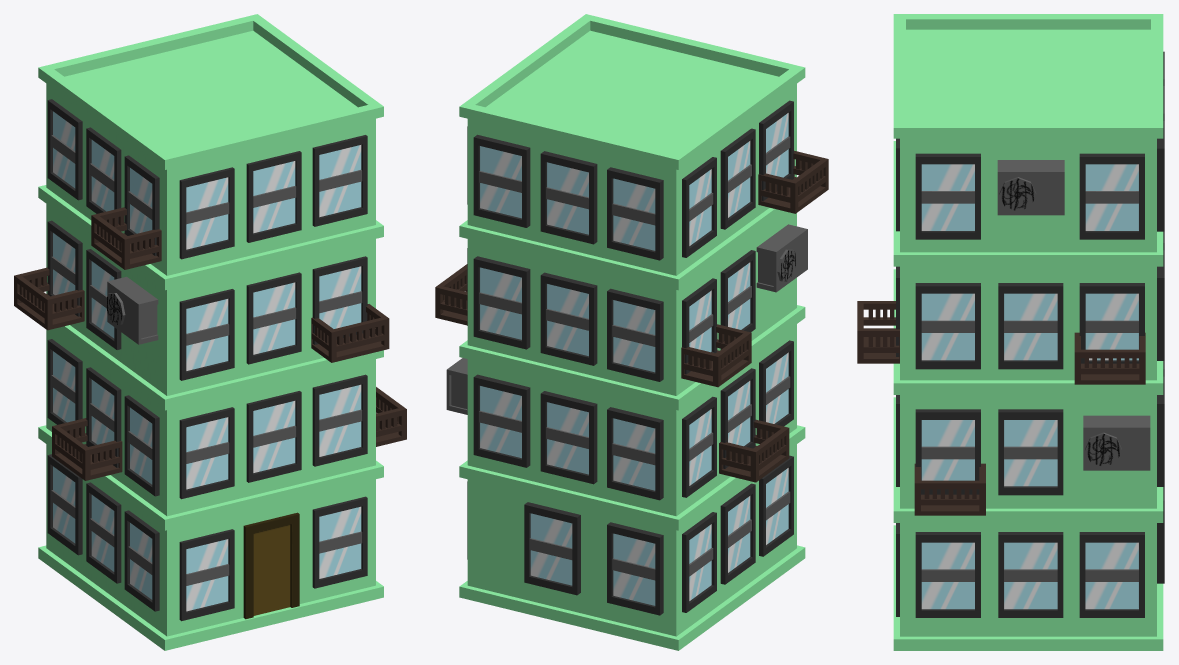
File: 7 Building.fbx
3 views of the same model, side by side, from view 1: azimuth 30°, elevation 25°; view 2: azimuth 150°, elevation 25°; view 3: azimuth 270°, elevation 25° (orthographic). The views are drawn at different scales.
Visible parts, largest first — view 1: building_206, Normal Door.005, Window1.072, Window1.051, Window1.064, Window1.044, Window1.065, Window1.043, Window1.052, Cube.081, Cube.070, Cube.085 (+18 smaller); view 2: building_206, Window1.056, Window1.047, Window1.069, Window1.055, Window1.068, Window1.048, Cube.072, Cube.077, Cube.074, Window1.061, Cube.083 (+17 smaller); view 3: building_206, Window1.050, Window1.057, Window1.058, Window1.070, Window1.071, Cube.078, Window1.062, Window1.063, Window1.049, Cube.075, Cube.079 (+8 smaller).
Part boxes in pixels (bbox=[...]): building_206: bbox=[38, 14, 383, 650]; Normal Door.005: bbox=[243, 512, 299, 619]; Window1.072: bbox=[179, 529, 234, 621]; Window1.051: bbox=[179, 289, 234, 380]; Window1.064: bbox=[179, 167, 234, 259]; Window1.044: bbox=[246, 391, 301, 482]; Window1.065: bbox=[246, 151, 301, 242]; Window1.043: bbox=[179, 407, 234, 499]; Window1.052: bbox=[246, 272, 301, 364]; Cube.081: bbox=[312, 135, 367, 226]; Cube.070: bbox=[312, 374, 367, 466]; Cube.085: bbox=[312, 496, 367, 588]; building_206: bbox=[459, 14, 805, 650]; Window1.056: bbox=[540, 272, 597, 365]; Window1.047: bbox=[473, 374, 530, 467]; Window1.069: bbox=[540, 151, 597, 244]; Window1.055: bbox=[473, 256, 530, 349]; Window1.068: bbox=[473, 134, 530, 227]; Window1.048: bbox=[540, 391, 597, 484]; Cube.072: bbox=[607, 407, 663, 500]; Cube.077: bbox=[607, 522, 663, 615]; Cube.074: bbox=[607, 288, 663, 381]; Window1.061: bbox=[524, 502, 580, 595]; Cube.083: bbox=[607, 167, 663, 260]; building_206: bbox=[893, 14, 1163, 650]; Window1.050: bbox=[998, 409, 1063, 495]; Window1.057: bbox=[915, 283, 980, 369]; Window1.058: bbox=[998, 283, 1063, 369]; Window1.070: bbox=[915, 153, 980, 239]; Window1.071: bbox=[1079, 153, 1144, 239]; Cube.078: bbox=[1079, 532, 1144, 617]; Window1.062: bbox=[915, 532, 980, 617]; Window1.063: bbox=[998, 532, 1063, 617]; Window1.049: bbox=[915, 409, 980, 494]; Cube.075: bbox=[1079, 283, 1144, 363]; Cube.079: bbox=[1083, 415, 1150, 470].
Size of the model in its own units: 543 by 898 by 479.
